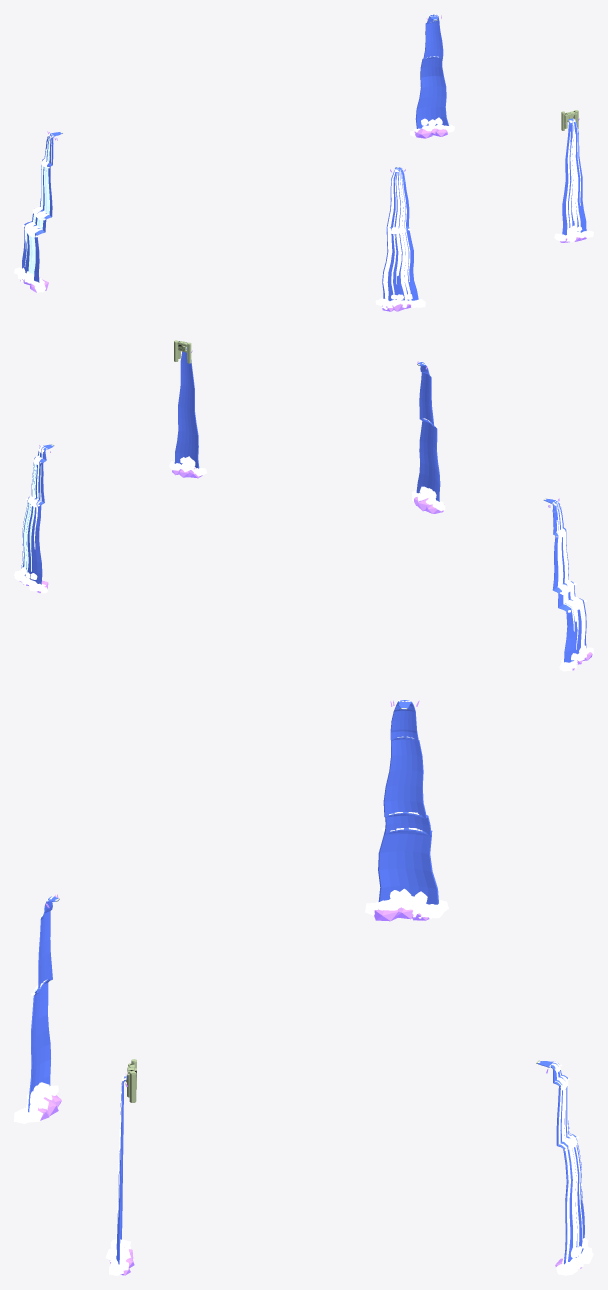
The model's file is ILHA3_07_WATER_4ec5f0.fbx.
3 renders of one model, top to bottom at view 1: azimuth 30°, elevation 25°; view 2: azimuth 150°, elevation 25°; view 3: azimuth 270°, elevation 25°, orthographic. The views are drawn at different scales.
Visible parts, largest first — view 1: SG_Water_Fall_East__Water_SG, SG_Water_Fall_West__Water_SG, SG_Water_Fall_West__Water_Fall, SG_Water_Fall_South__Water_SG, SG_Water_Fall_North__Water_SG, SG_Water_Fall_South__Water_Fall, SG_Water_Fall_North__Water_Fall, SG_Water_Fall_North__Foam, SG_Water_Fall_West__Foam, SG_Water_Fall_South__Foam, SG_Water_Fall_East__Foam; view 2: SG_Water_Fall_West__Water_SG, SG_Water_Fall_South__Water_SG, SG_Water_Fall_North__Water_SG, SG_Water_Fall_East__Water_SG, SG_Water_Fall_North__Water_Fall, SG_Water_Fall_North__Foam, SG_Water_Fall_East__Water_Fall, SG_Water_Fall_East__Foam; view 3: SG_Water_Fall_North__Water_SG, SG_Water_Fall_West__Water_SG, SG_Water_Fall_East__Water_SG, SG_Water_Fall_East__Water_Fall, SG_Water_Fall_North__Foam, SG_Water_Fall_East__Foam, SG_Water_Fall_West__Foam, SG_Water_Fall_South__Water_SG.
Boxes of the visible parts, left/top/right/bottom form: SG_Water_Fall_East__Water_SG: left=415, top=14, right=448, bottom=128; SG_Water_Fall_West__Water_SG: left=382, top=167, right=418, bottom=300; SG_Water_Fall_West__Water_Fall: left=383, top=170, right=411, bottom=300; SG_Water_Fall_South__Water_SG: left=562, top=118, right=586, bottom=235; SG_Water_Fall_North__Water_SG: left=22, top=132, right=62, bottom=282; SG_Water_Fall_South__Water_Fall: left=566, top=120, right=580, bottom=234; SG_Water_Fall_North__Water_Fall: left=24, top=135, right=51, bottom=278; SG_Water_Fall_North__Foam: left=14, top=132, right=61, bottom=292; SG_Water_Fall_West__Foam: left=375, top=167, right=425, bottom=309; SG_Water_Fall_South__Foam: left=554, top=119, right=593, bottom=241; SG_Water_Fall_East__Foam: left=410, top=14, right=454, bottom=136; SG_Water_Fall_West__Water_SG: left=416, top=362, right=440, bottom=501; SG_Water_Fall_South__Water_SG: left=174, top=347, right=199, bottom=468; SG_Water_Fall_North__Water_SG: left=544, top=499, right=586, bottom=662; SG_Water_Fall_East__Water_SG: left=21, top=444, right=53, bottom=584; SG_Water_Fall_North__Water_Fall: left=556, top=502, right=585, bottom=647; SG_Water_Fall_North__Foam: left=544, top=498, right=593, bottom=671; SG_Water_Fall_East__Water_Fall: left=21, top=452, right=42, bottom=577; SG_Water_Fall_East__Foam: left=14, top=444, right=52, bottom=593; SG_Water_Fall_North__Water_SG: left=378, top=700, right=438, bottom=904; SG_Water_Fall_West__Water_SG: left=28, top=896, right=58, bottom=1112; SG_Water_Fall_East__Water_SG: left=537, top=1061, right=584, bottom=1264; SG_Water_Fall_East__Water_Fall: left=555, top=1071, right=582, bottom=1262; SG_Water_Fall_North__Foam: left=365, top=700, right=448, bottom=918; SG_Water_Fall_East__Foam: left=538, top=1061, right=593, bottom=1275; SG_Water_Fall_West__Foam: left=14, top=895, right=58, bottom=1123; SG_Water_Fall_South__Water_SG: left=116, top=1075, right=126, bottom=1264.
Bounding box in the file's own units: 403 × 120 × 266.
Materials: 6 (1 with a texture image).
